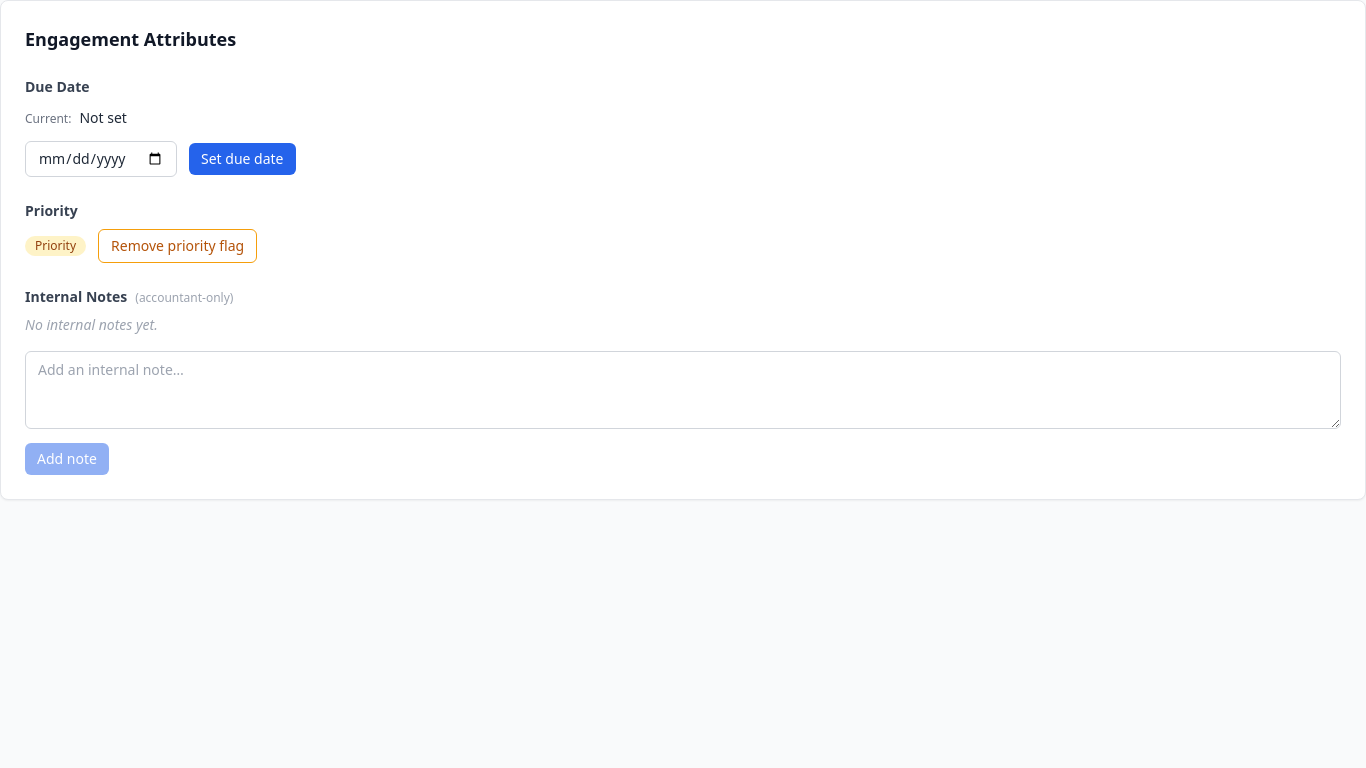
Test case: [AC-LIFE-009-01] [AC-LIFE-009-02] setPriorityAction wire-up › [AC-LIFE-009-02] hides priority badge after successfully unflagging
The width and height of the screenshot is (1366, 768).
Click the button with test id "priority-toggle-button" at [178, 246], box [98, 229, 257, 263]
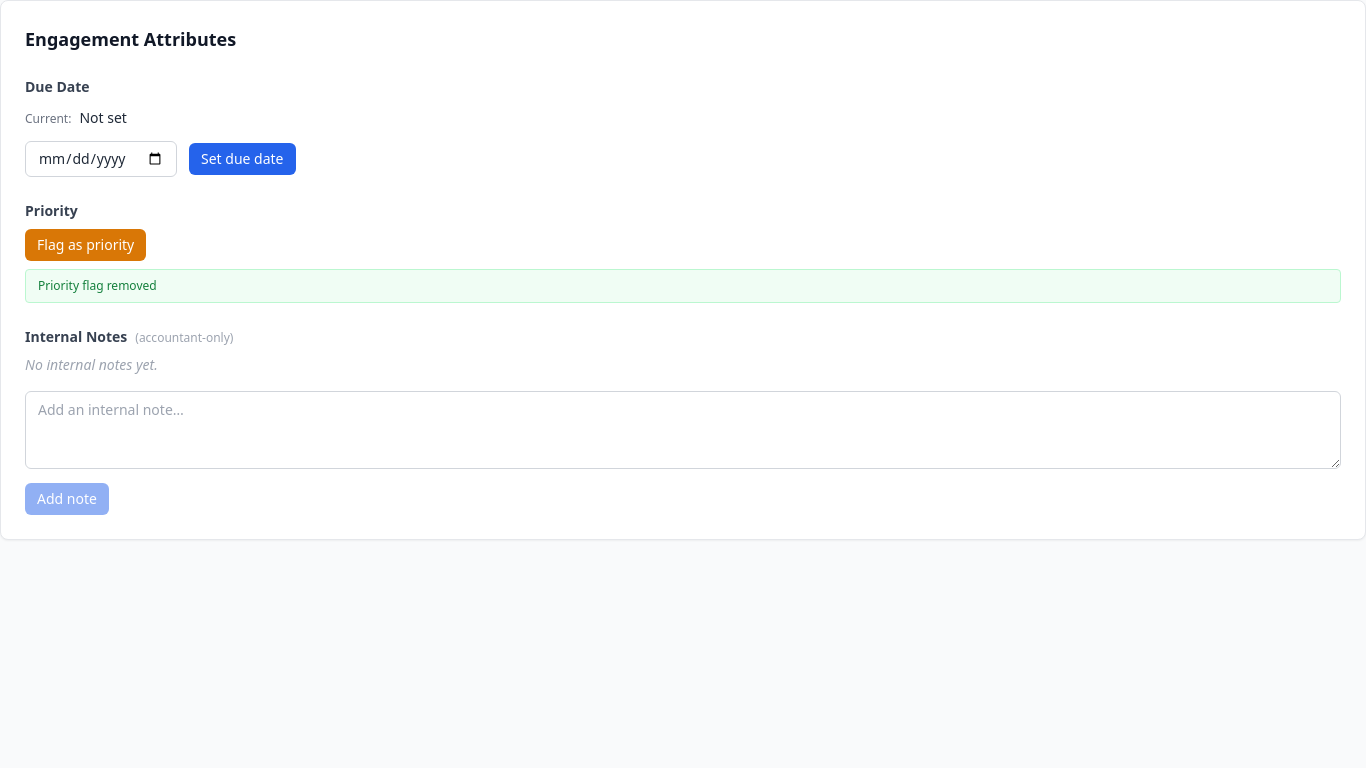
expect the text with test id "priority-badge" is gone: met
